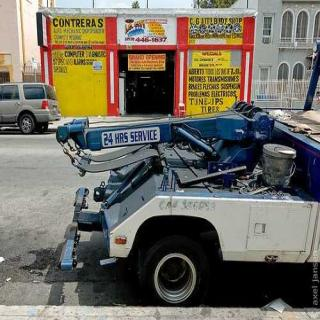Towing_truck: (55, 100, 319, 307)
